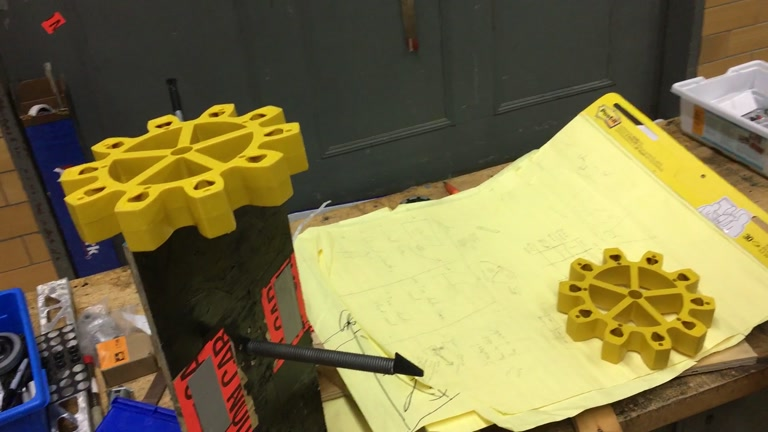gear: (57, 101, 307, 251), (558, 246, 716, 372)
